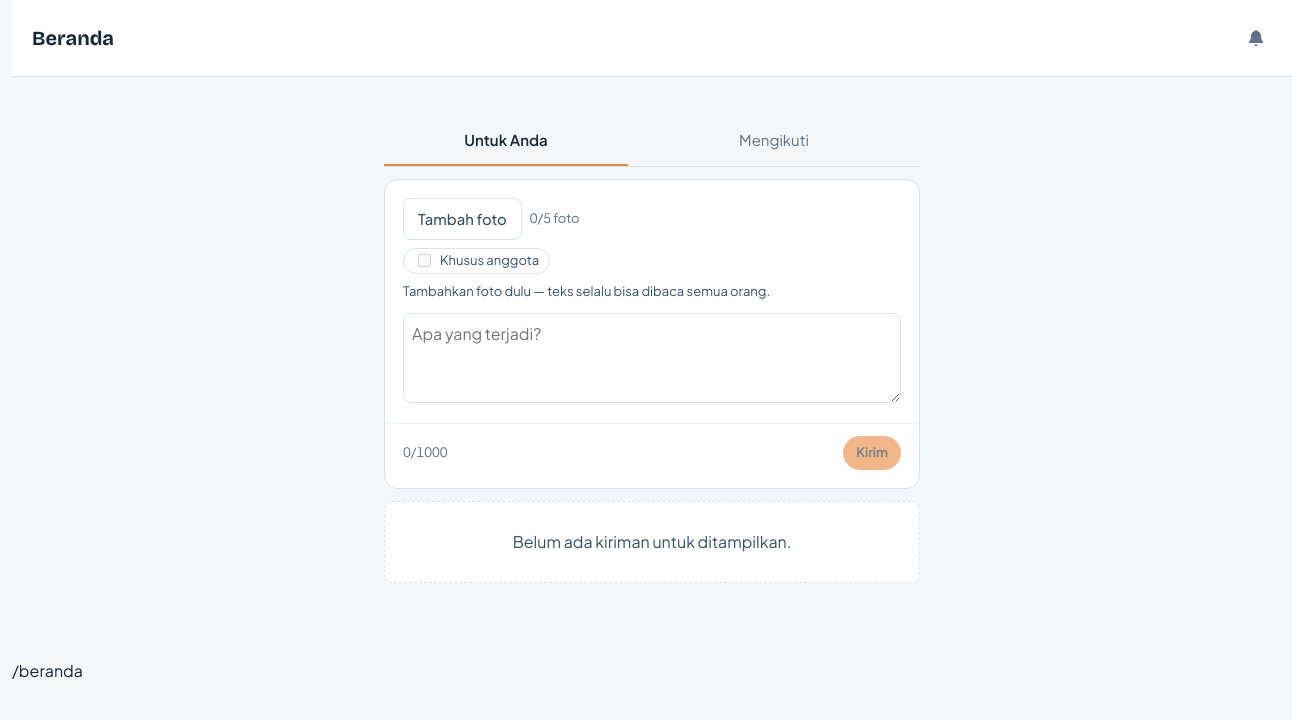
Test: BerandaPage — the two tabs › puts ?tab=mengikuti in the URL when Mengikuti is tapped
Check: the text "Belum ada kiriman untuk ditampilkan." is shown, box [384,501,920,583]
Click the button "Mengikuti".
click(774, 147)  # box [652,129,896,166]
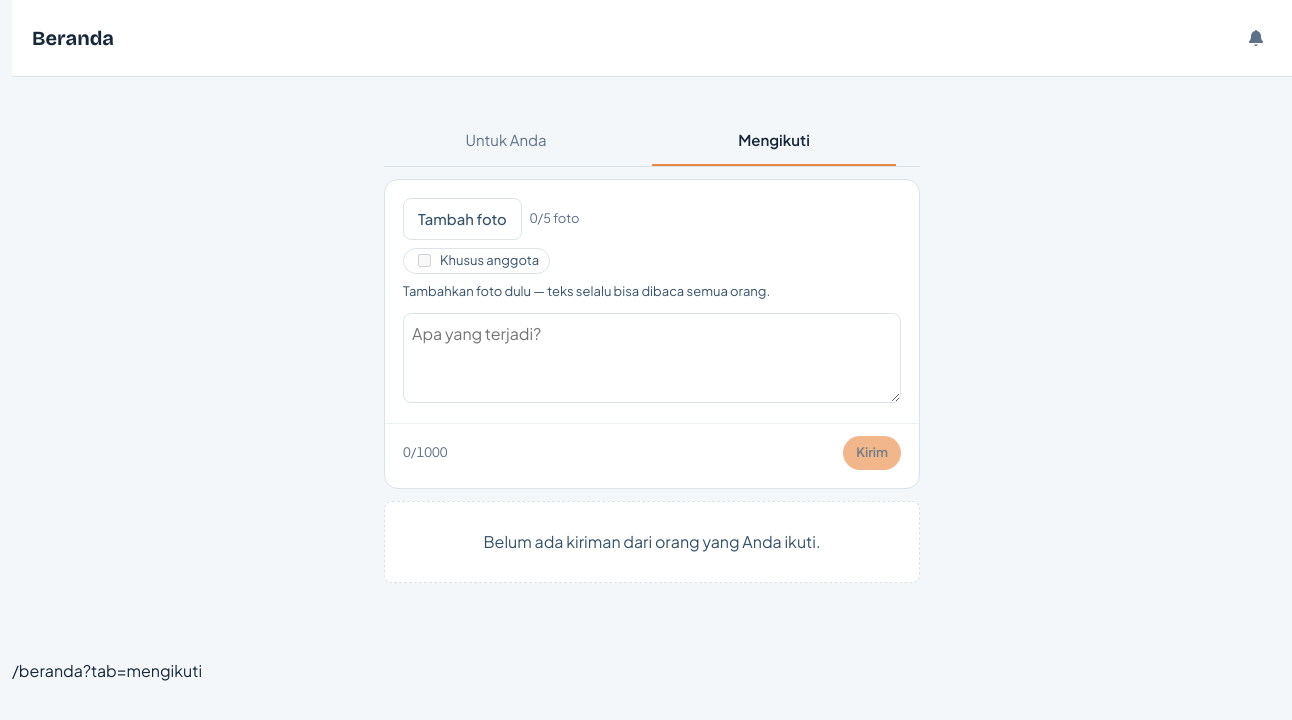
Check: the text with test id "url" reads "/beranda?tab=mengikuti", box [12,660,202,681]
